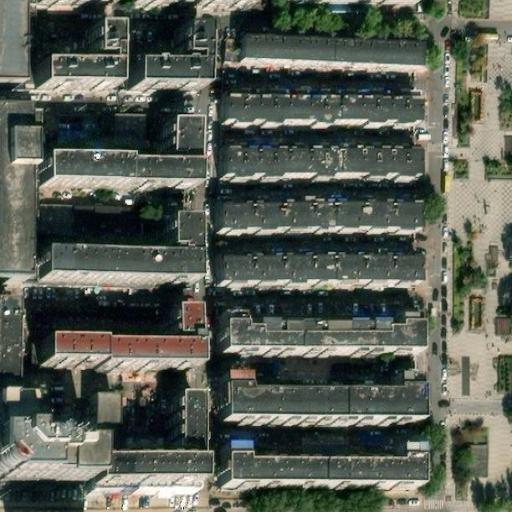building: (224, 387, 423, 437), (225, 93, 420, 133), (228, 460, 421, 500), (225, 204, 419, 243), (223, 154, 419, 191), (223, 264, 418, 301), (224, 332, 421, 366), (244, 46, 419, 78), (38, 247, 194, 275), (39, 153, 194, 181), (135, 13, 207, 73), (36, 18, 113, 74), (42, 362, 201, 386), (0, 117, 16, 294), (282, 0, 416, 19), (97, 467, 198, 492), (92, 402, 118, 467), (170, 408, 198, 468), (110, 112, 146, 153), (32, 203, 73, 235), (164, 205, 194, 247), (165, 112, 194, 154), (171, 327, 201, 362), (466, 439, 488, 472)
